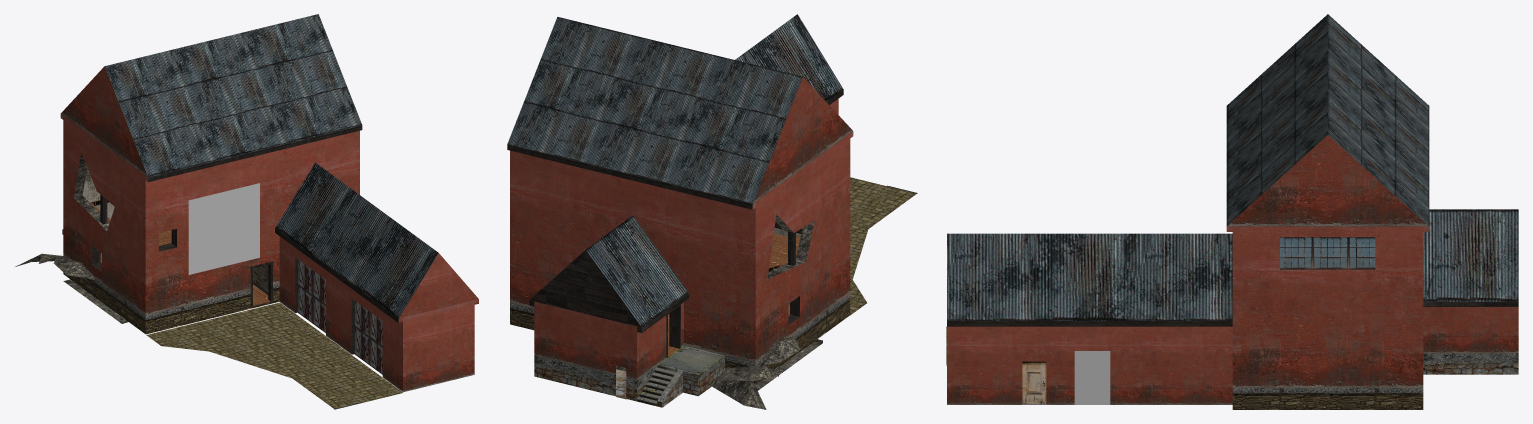
File: WorkstationGarage.dae
3 views of the same model, side by side, from view 1: azimuth 30°, elevation 25°; view 2: azimuth 150°, elevation 25°; view 3: azimuth 270°, elevation 25° (orthographic). The views are drawn at different scales.
Visible parts, largest first — view 1: BSP.005; view 2: BSP.005; view 3: BSP.005.
Boxes of the visible parts, x1,y1,x2,y2 form: BSP.005: (15, 14, 478, 409); BSP.005: (507, 14, 917, 409); BSP.005: (946, 14, 1518, 409).
Bounding box in the file's own units: 16.38 × 28.82 × 15.75.
